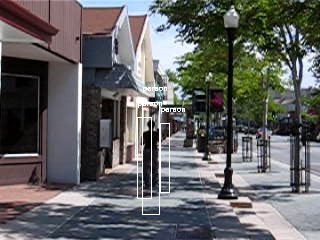person: (141, 121, 163, 189), (140, 121, 162, 189), (142, 121, 164, 189), (141, 120, 163, 188), (141, 122, 163, 190)
target_negative: (42, 133, 319, 186), (4, 139, 246, 144), (262, 216, 292, 235), (209, 154, 246, 158), (273, 200, 291, 203)
